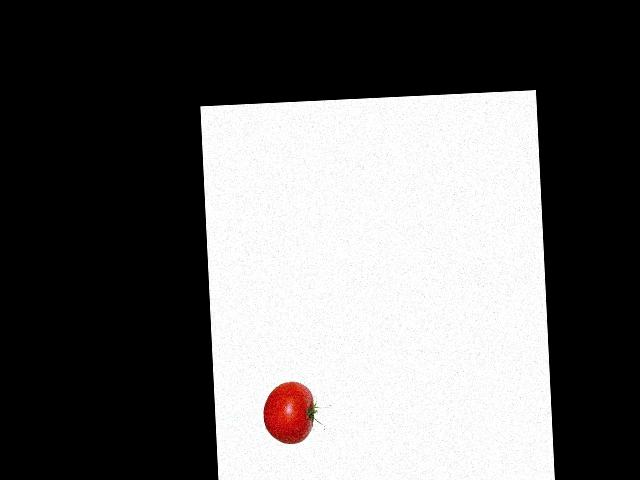tomato: (261, 379, 316, 444)
